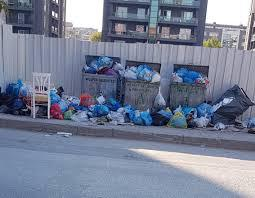Container: (123, 82, 160, 109), (170, 81, 208, 107), (83, 72, 117, 96)
Garbage: (221, 83, 255, 136), (49, 86, 94, 120), (212, 84, 245, 129), (67, 99, 124, 122), (2, 81, 31, 116), (162, 106, 215, 124), (83, 57, 122, 75), (124, 66, 161, 82), (172, 70, 209, 84), (118, 112, 160, 124), (247, 110, 255, 134)
